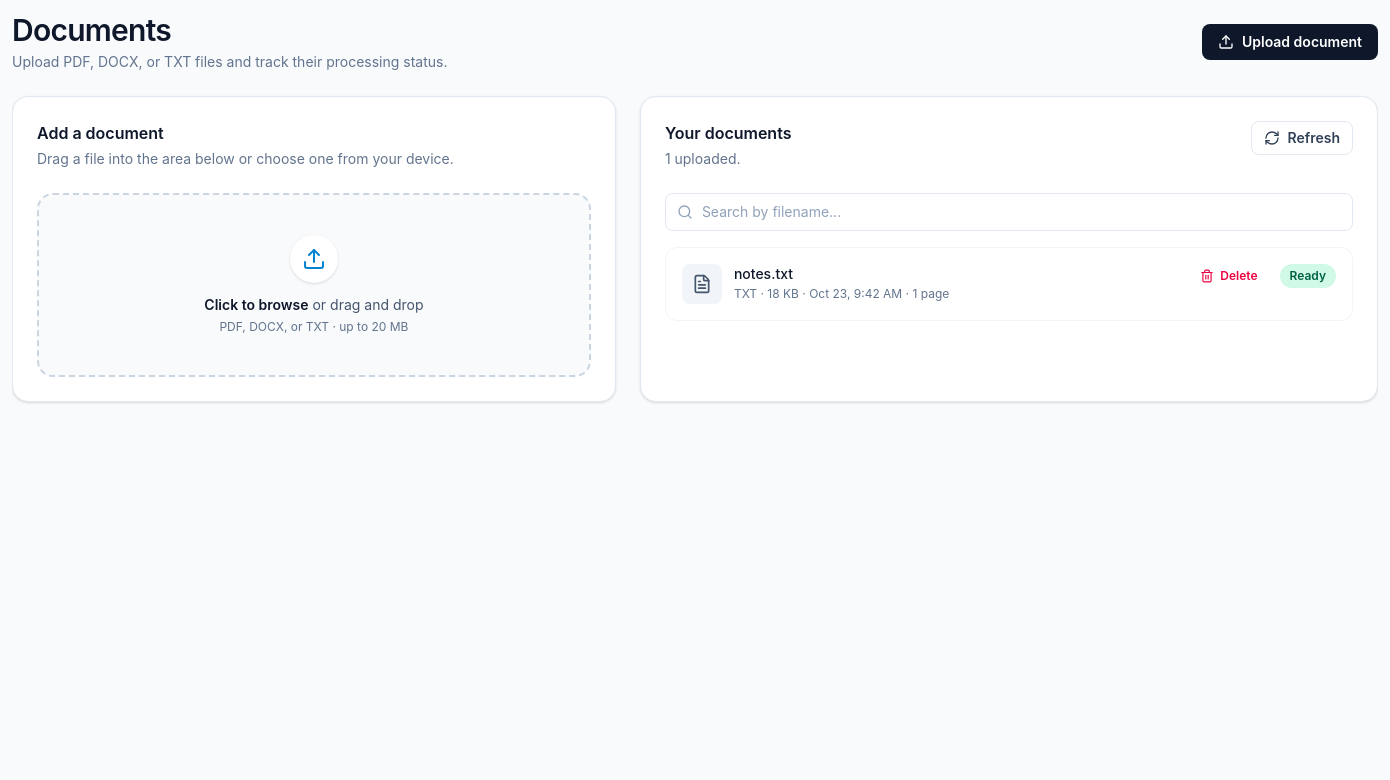
Scenario: DocumentsPage › deletes a document after inline confirmation
The width and height of the screenshot is (1390, 780).
Expected: the link "notes.txt" is shown, 734,265 -> 793,282
Click the button with aria-label "Delete notes.txt" at (1229, 276), box 1190,264 -> 1268,288
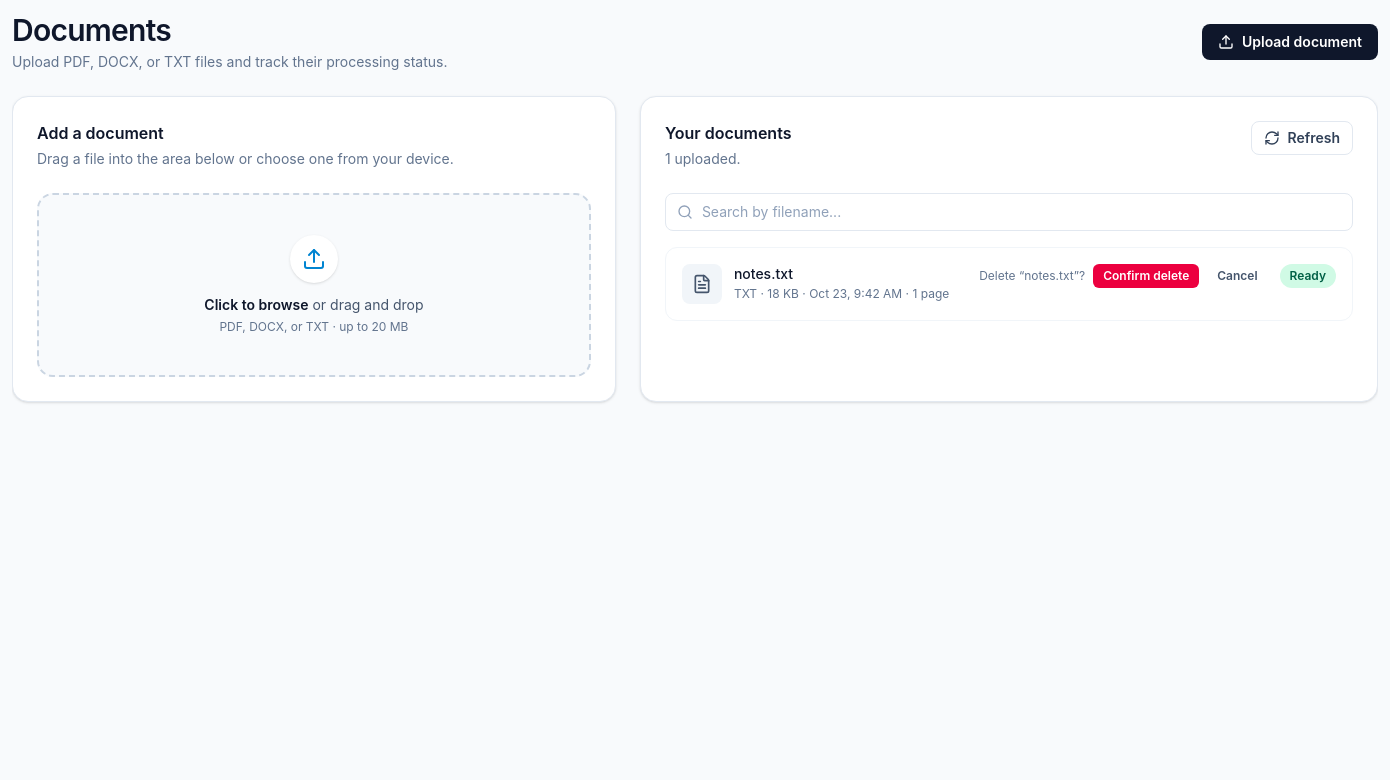
Click the button "Confirm delete" at (1146, 276), box 1093,264 -> 1199,288
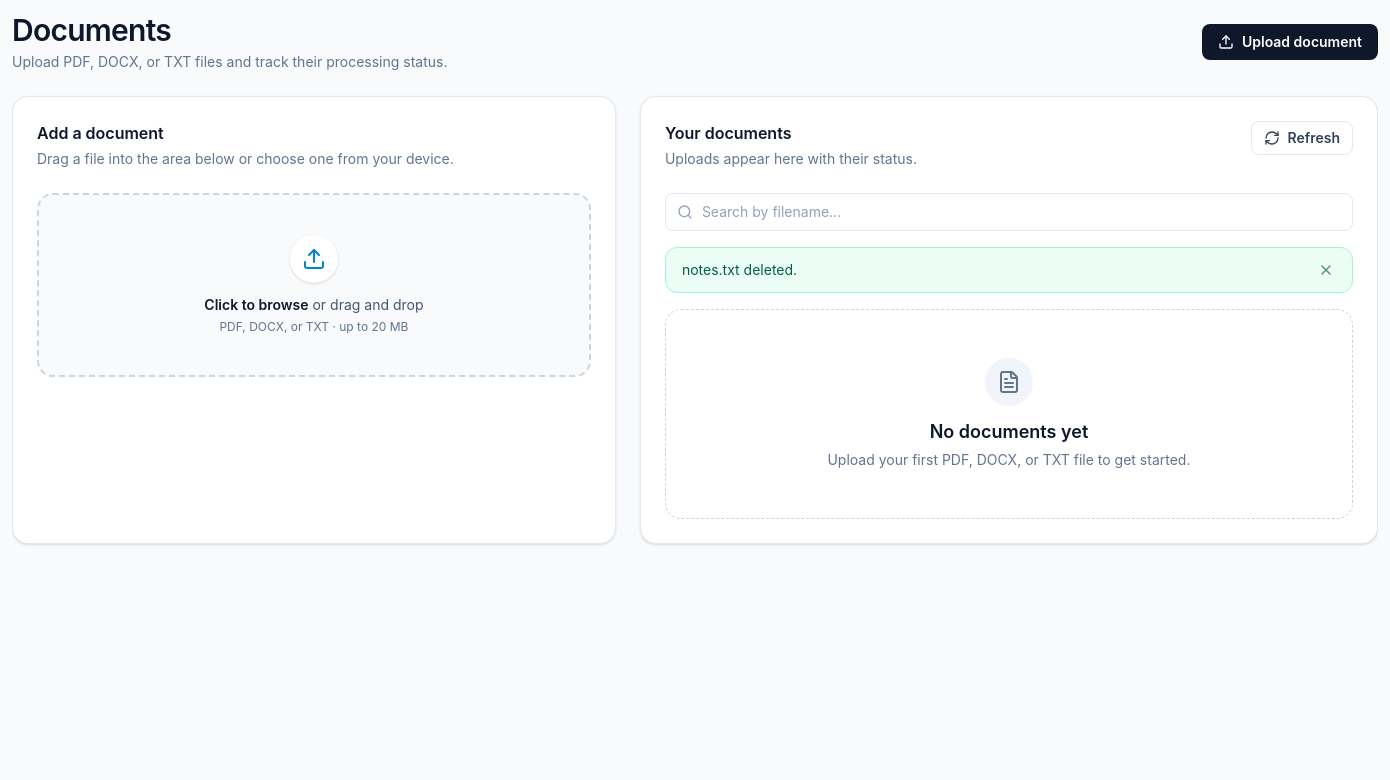
Result: the text "notes.txt deleted." is shown at 682,260 -> 797,280
